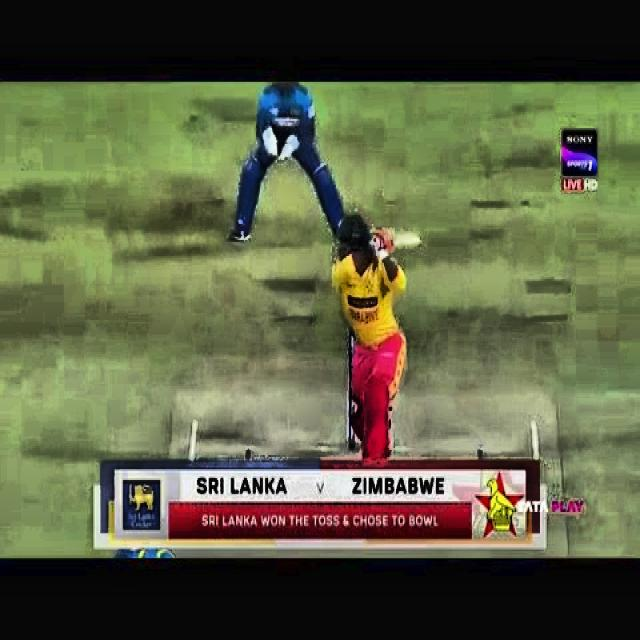Left-stump: (349, 332, 355, 450)
